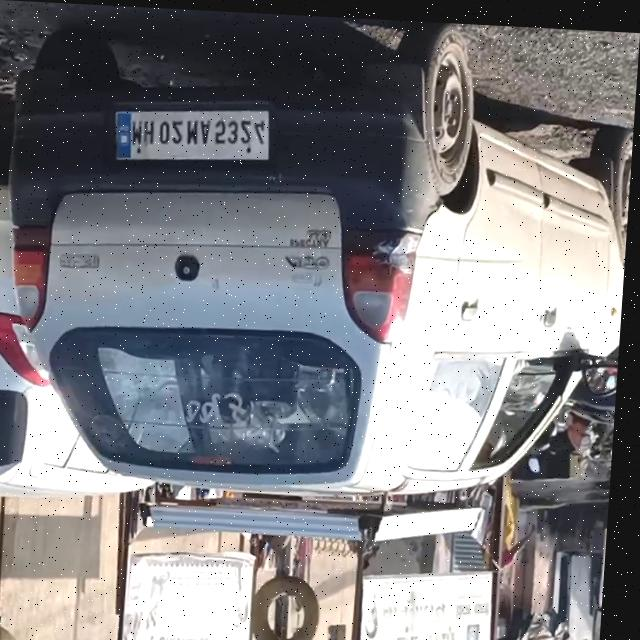plate: (113, 97, 276, 165)
